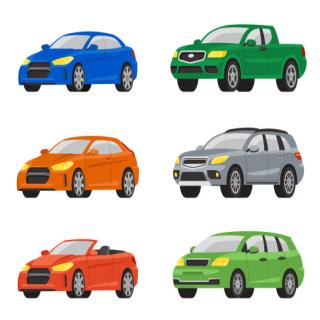Normal_vehicle: (169, 122, 307, 207), (167, 19, 307, 99), (170, 225, 306, 304), (15, 26, 138, 106), (16, 130, 140, 208), (16, 230, 139, 306)
